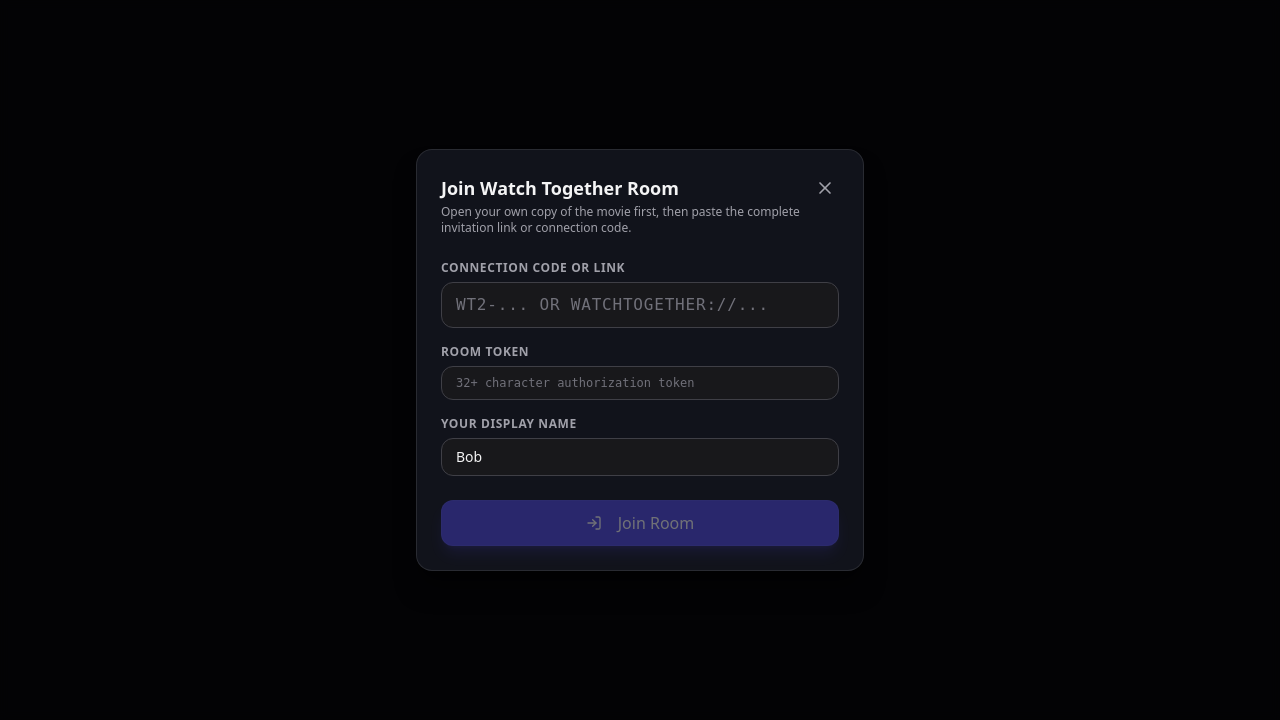
Test case: Room Collaboration UI Modals › JoinRoomModal › normalizes room code input to uppercase
In the field with test id "room-code-input": (640, 305) [441, 282, 839, 328], type "  k7m-2p9  "
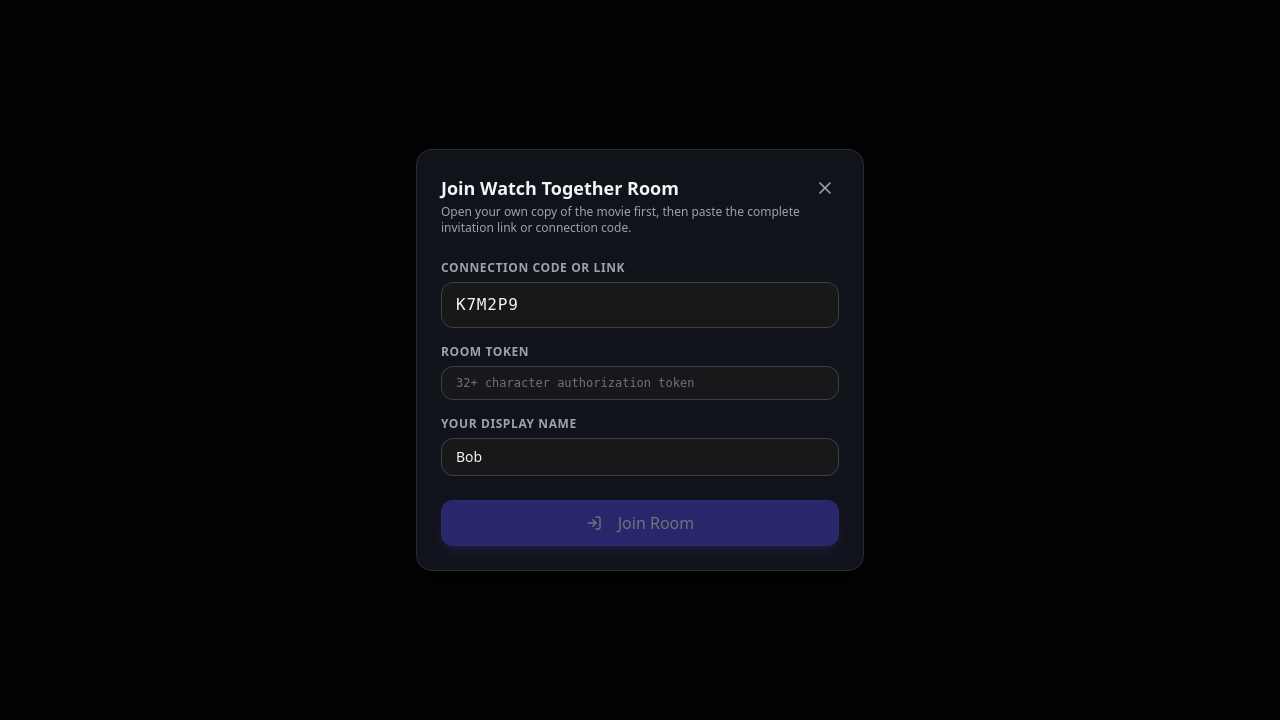
Check: the field with test id "room-code-input" holds "K7M2P9", box [441, 282, 839, 328]
